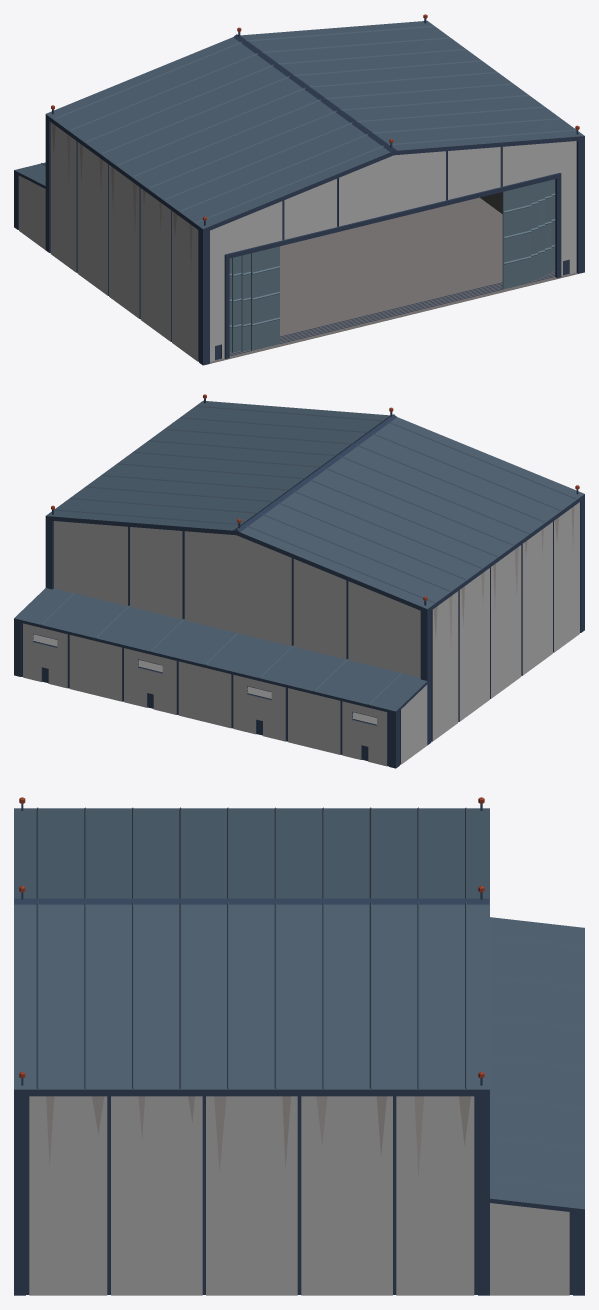
Rendered from maintenance-hangar-6fab99.glb.
The picture shows the model from 3 angles, top to bottom: view 1: azimuth 30°, elevation 25°; view 2: azimuth 150°, elevation 25°; view 3: azimuth 270°, elevation 25°; orthographic projection. The views are drawn at different scales.
Visible parts, largest first — view 1: hangar-shell, door-leaf-r0-mesh, door-leaf-l0-mesh, door-leaf-l1-mesh, door-leaf-l2-mesh, door-leaf-r1-mesh, door-leaf-r2-mesh, door-leaf-r3-mesh, door-leaf-r4-mesh; view 2: hangar-shell; view 3: hangar-shell.
Boxes of the visible parts, left/top/right/bottom form: hangar-shell: left=14, top=14, right=584, bottom=365; door-leaf-r0-mesh: left=502, top=185, right=531, bottom=289; door-leaf-l0-mesh: left=251, top=246, right=279, bottom=350; door-leaf-l1-mesh: left=241, top=253, right=250, bottom=351; door-leaf-l2-mesh: left=232, top=255, right=241, bottom=352; door-leaf-r1-mesh: left=531, top=183, right=538, bottom=281; door-leaf-r2-mesh: left=538, top=181, right=544, bottom=277; door-leaf-r3-mesh: left=545, top=180, right=551, bottom=274; door-leaf-r4-mesh: left=551, top=179, right=555, bottom=271; hangar-shell: left=14, top=394, right=584, bottom=768; hangar-shell: left=14, top=797, right=584, bottom=1295.
Size of the model in its own units: 56 by 24.95 by 48.
